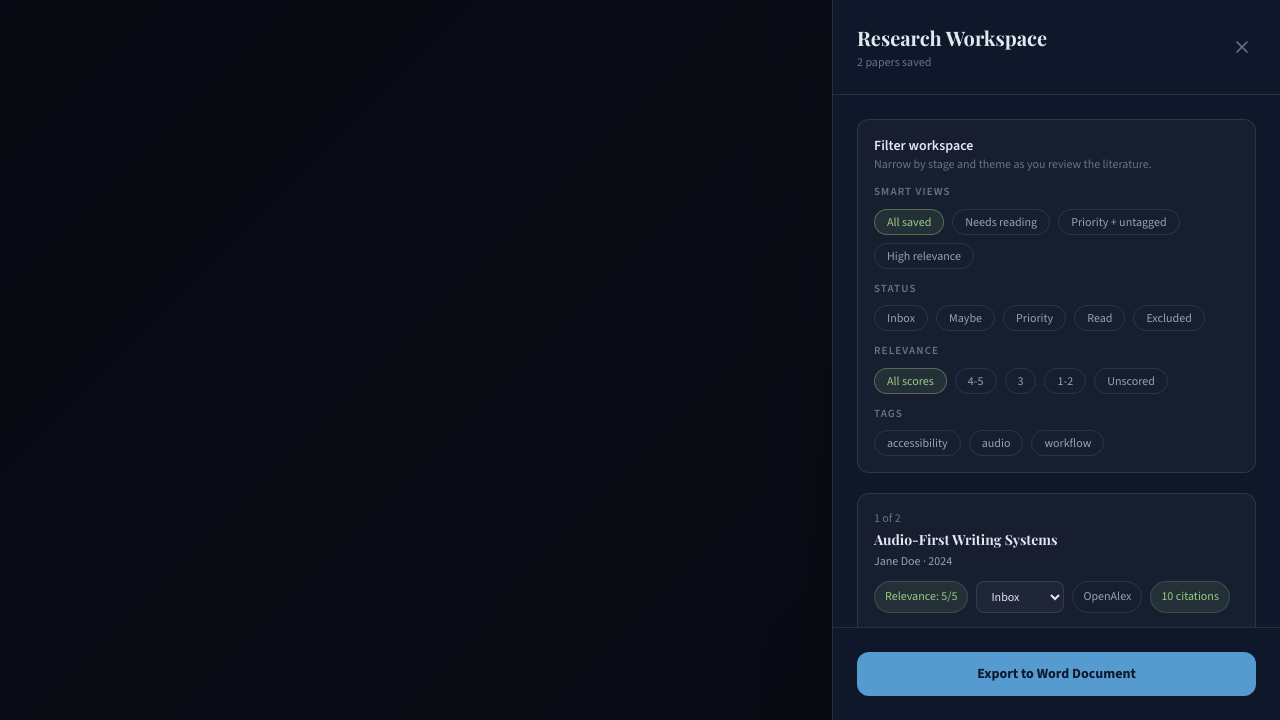
Test: BookmarkPanel › filters workspace papers by relevance and shows the saved score
Expected: the text "Relevance: 5/5" is shown, [874,581,968,613]
Click the button "High relevance". click: coordinates (924, 256)
box: [874,242,974,268]
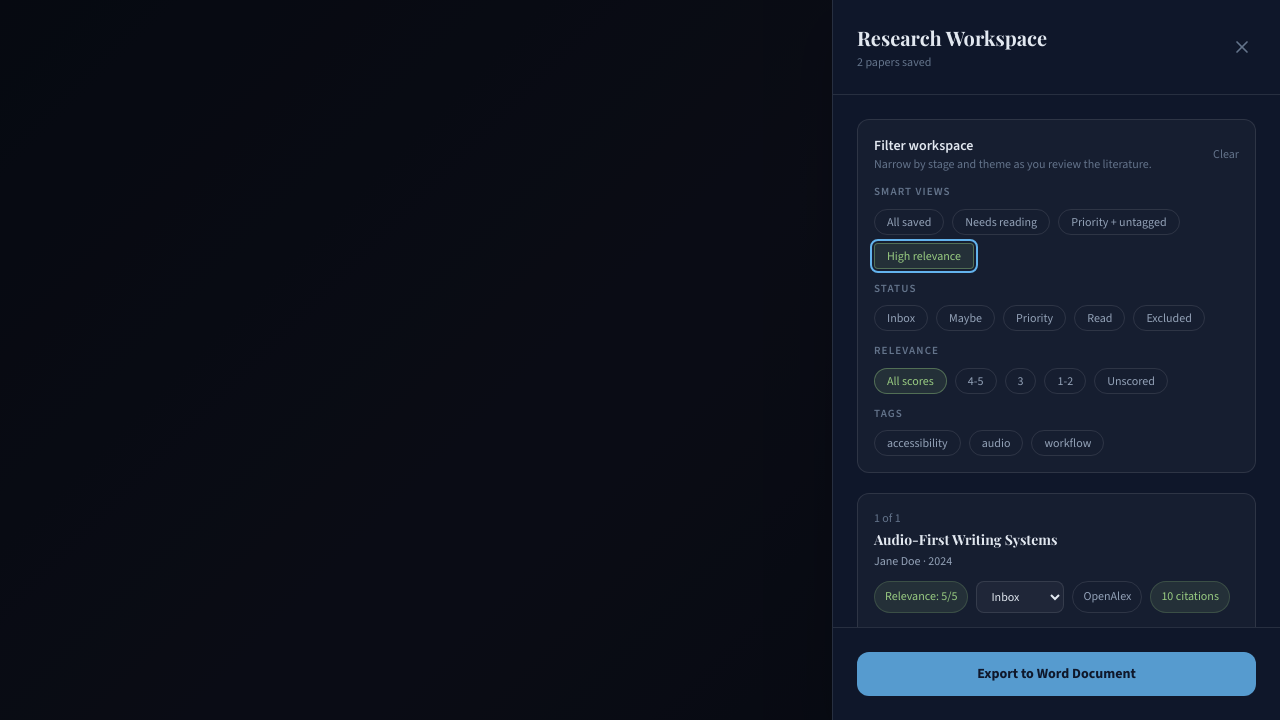
Expected: the heading "Audio-First Writing Systems" is shown, [874,530,1057,549]
Expected: the text "Accessible Research Pipelines" is not shown
Click the button "All saved". click: coordinates (909, 222)
box: [874,208,944,234]
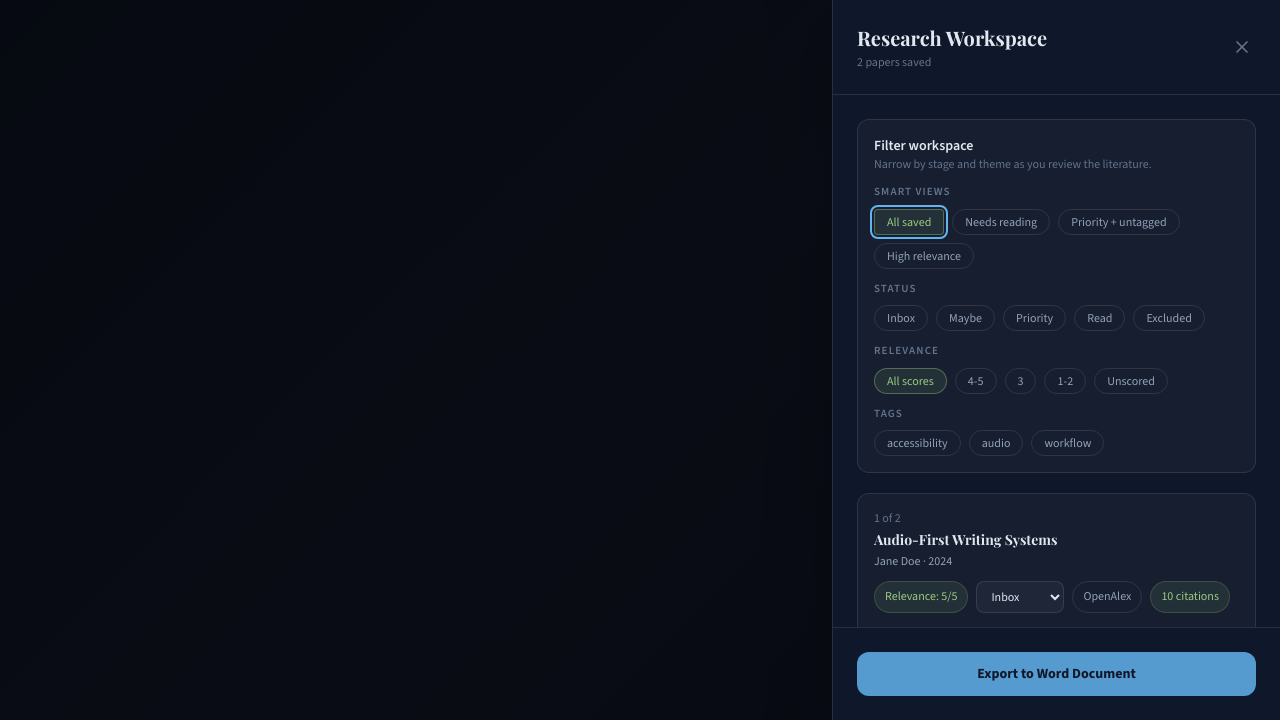
Click the button "1-2". click: coordinates (1065, 380)
box: [1044,368,1086,394]
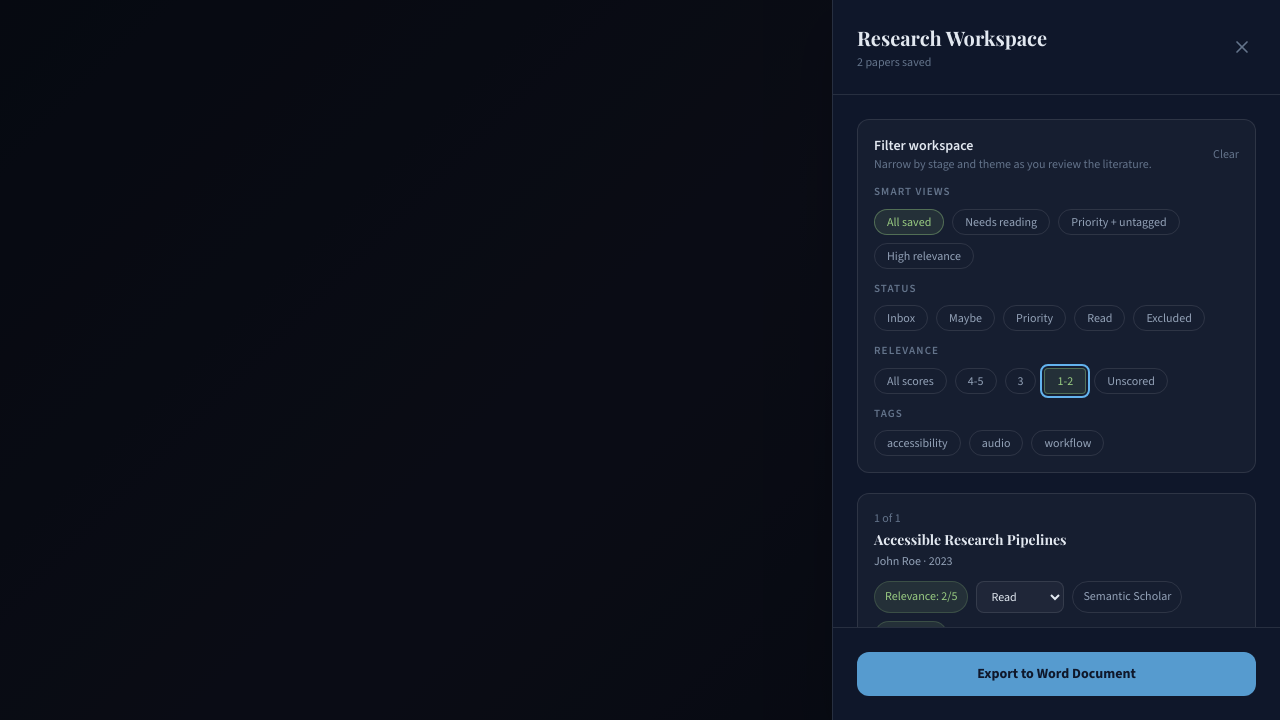
Now the heading "Accessible Research Pipelines" is shown, box [874,530,1066,549]
Now the heading "Audio-First Writing Systems" is gone
